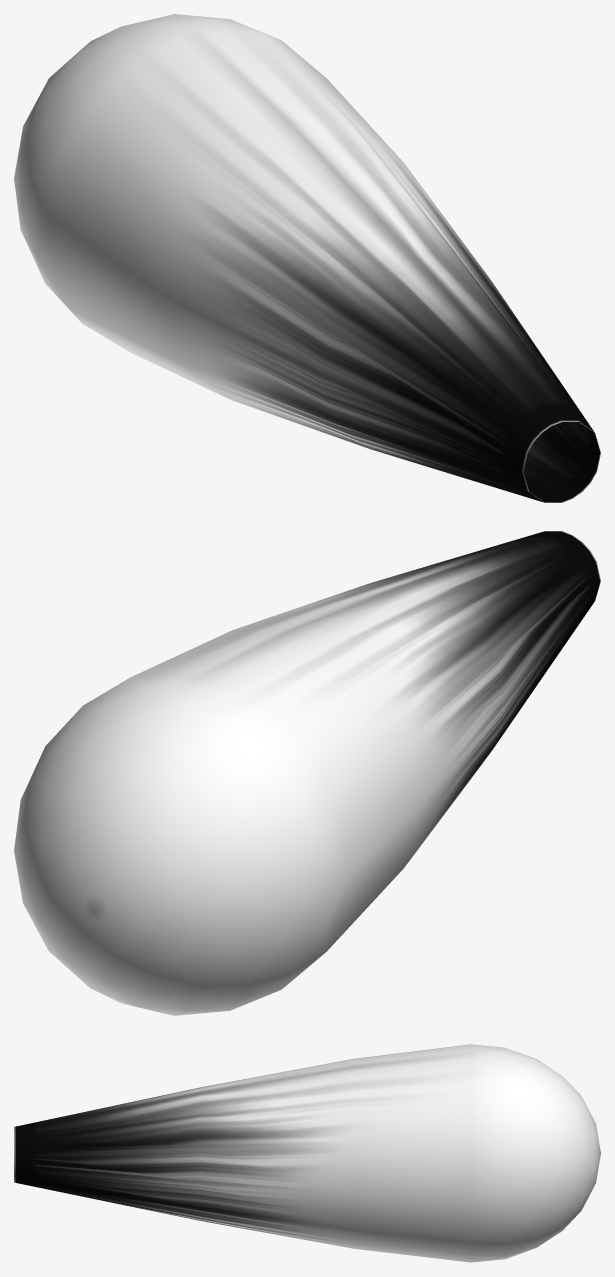
Rendered from CometMuzzle.FBX.
3 renders of one model, top to bottom at view 1: azimuth 30°, elevation 25°; view 2: azimuth 150°, elevation 25°; view 3: azimuth 270°, elevation 25°, orthographic. The views are drawn at different scales.
Visible parts, largest first — view 1: CometMuzzle; view 2: CometMuzzle; view 3: CometMuzzle.
Boxes of the visible parts, x1,y1,x2,y2 form: CometMuzzle: [14, 14, 600, 502]; CometMuzzle: [14, 531, 600, 1015]; CometMuzzle: [14, 1044, 600, 1262].
Size of the model in its own units: 39.3 by 39.3 by 105.
Materials: 1 (1 with a texture image).
